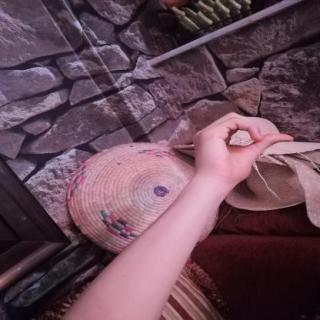WAW: (181, 105, 304, 200)
